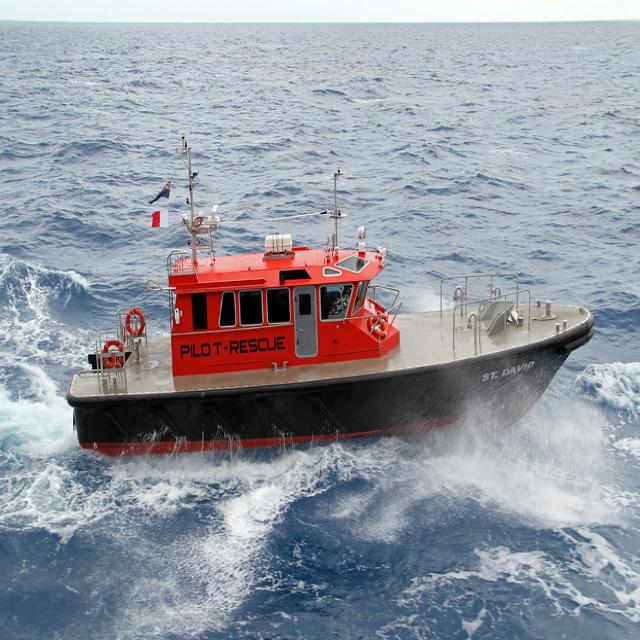houseboat: (70, 148, 592, 458)
